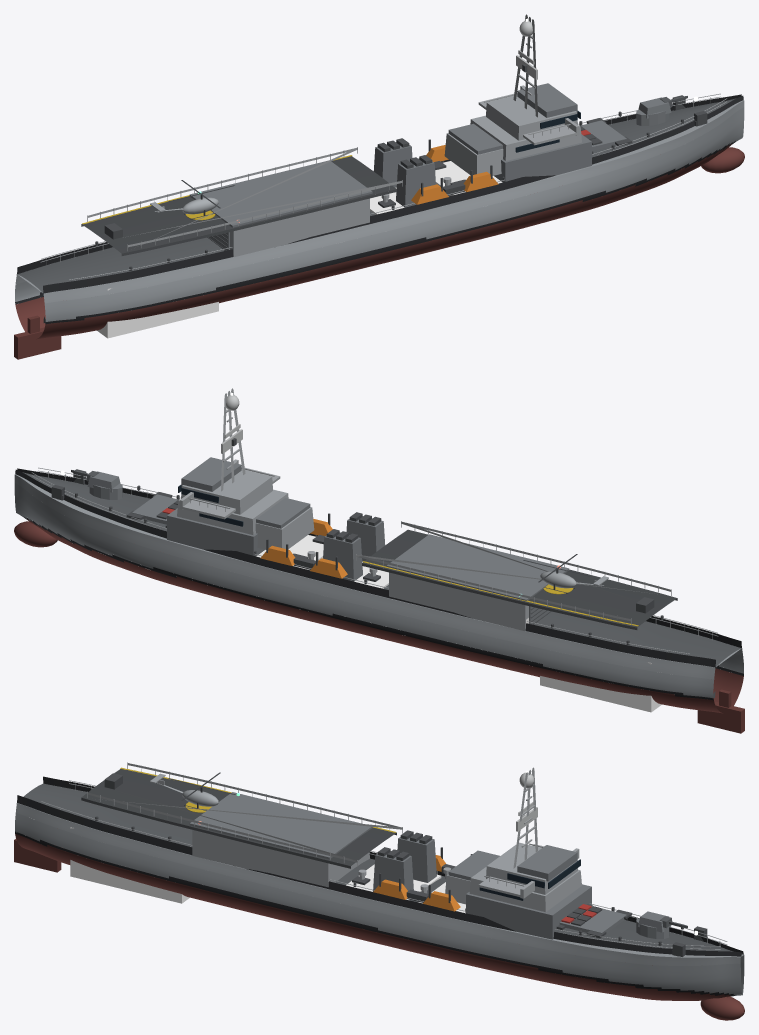
Rendered from ship.glb.
3 renders of one model, top to bottom at view 1: azimuth 30°, elevation 25°; view 2: azimuth 150°, elevation 25°; view 3: azimuth 330°, elevation 25°, orthographic.
Parts seen in each view (by area): view 1: Hull_Assembly, Hangar_Assembly, Superstructure_Assembly, Deck_Assembly, DeckDetails_Assembly, Weapons_Assembly, COMPARTMENT_1, Mast_Assembly, Railings, Helicopter_Assembly; view 2: Hull_Assembly, Hangar_Assembly, Superstructure_Assembly, Deck_Assembly, DeckDetails_Assembly, Weapons_Assembly, COMPARTMENT_1, Mast_Assembly, Railings, Helicopter_Assembly; view 3: Hull_Assembly, Hangar_Assembly, Superstructure_Assembly, Deck_Assembly, Weapons_Assembly, DeckDetails_Assembly, COMPARTMENT_1, Mast_Assembly, Railings, Helicopter_Assembly, COMPARTMENT_2.
Part boxes in pixels (x1,y1,x2,y2): Hull_Assembly: [14, 100, 744, 359]; Hangar_Assembly: [81, 147, 402, 256]; Superstructure_Assembly: [373, 83, 591, 207]; Deck_Assembly: [17, 94, 743, 293]; DeckDetails_Assembly: [95, 18, 707, 270]; Weapons_Assembly: [418, 96, 687, 195]; COMPARTMENT_1: [97, 288, 218, 338]; Mast_Assembly: [513, 14, 537, 117]; Railings: [40, 93, 727, 280]; Helicopter_Assembly: [150, 180, 234, 219]; Hull_Assembly: [14, 474, 744, 733]; Hangar_Assembly: [356, 521, 677, 630]; Superstructure_Assembly: [167, 457, 385, 581]; Deck_Assembly: [15, 468, 741, 667]; DeckDetails_Assembly: [51, 392, 663, 644]; Weapons_Assembly: [71, 470, 340, 569]; COMPARTMENT_1: [540, 662, 661, 712]; Mast_Assembly: [221, 388, 245, 491]; Railings: [31, 467, 718, 654]; Helicopter_Assembly: [523, 554, 608, 593]; Hull_Assembly: [14, 803, 744, 1020]; Hangar_Assembly: [81, 762, 402, 887]; Superstructure_Assembly: [373, 830, 591, 939]; Deck_Assembly: [17, 776, 743, 956]; Weapons_Assembly: [406, 864, 687, 938]; DeckDetails_Assembly: [95, 770, 707, 956]; COMPARTMENT_1: [70, 827, 189, 903]; Mast_Assembly: [513, 767, 537, 868]; Railings: [40, 780, 727, 950]; Helicopter_Assembly: [150, 772, 235, 810]; COMPARTMENT_2: [346, 864, 441, 900].
Bounding box in the file's own units: 118 × 33.29 × 15.6.
